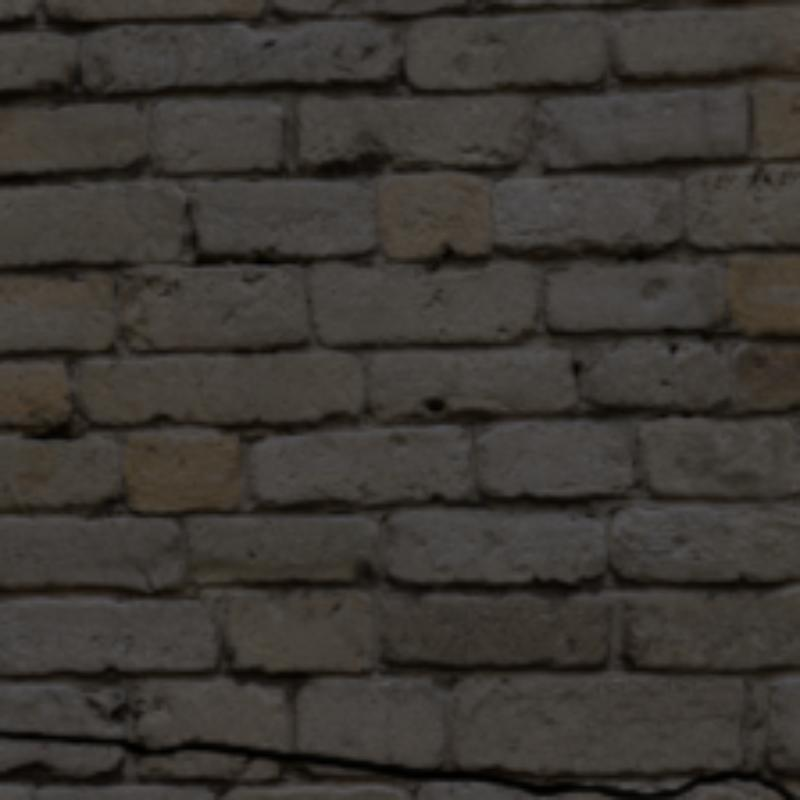crack: (0, 729, 789, 796)
